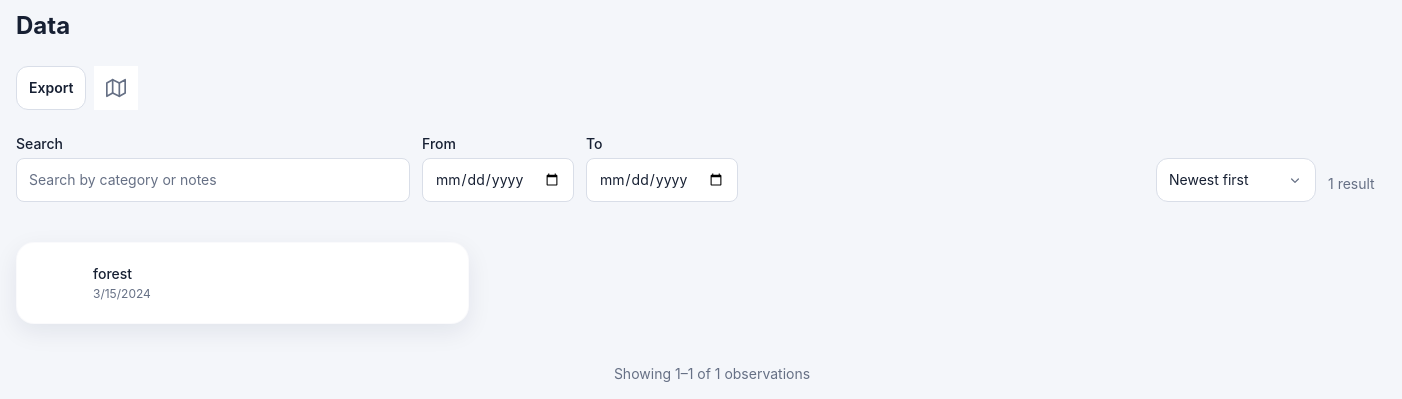
Test case: DataScreen › when a project is selected › observation filtering › renders no-results state when search matches nothing
The width and height of the screenshot is (1402, 399).
Type "nonexistent" into the field labelled "Search" at (213, 180), box [16,158,410,202]
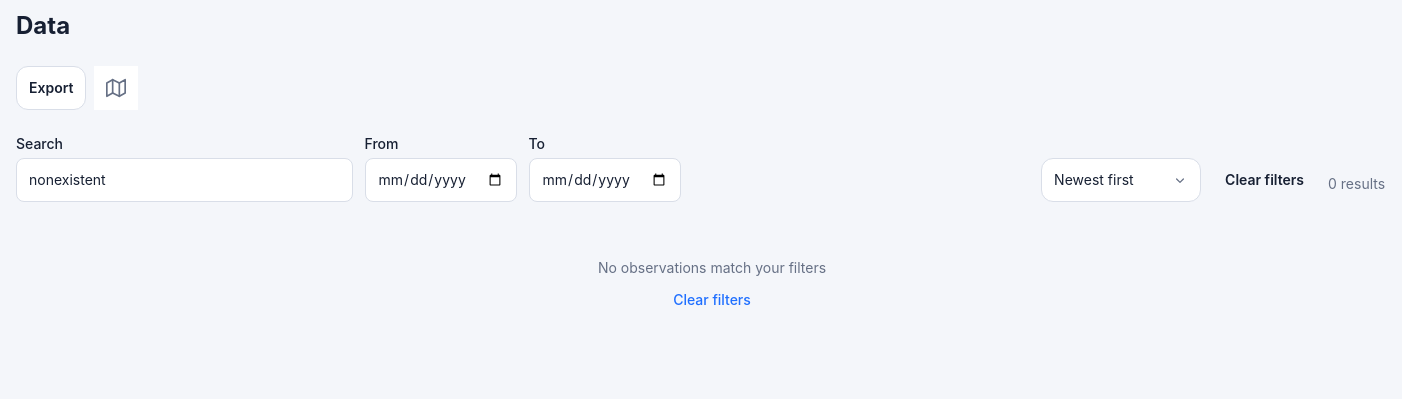
Result: the text "No observations match your filters" is shown at [598,258,826,278]
